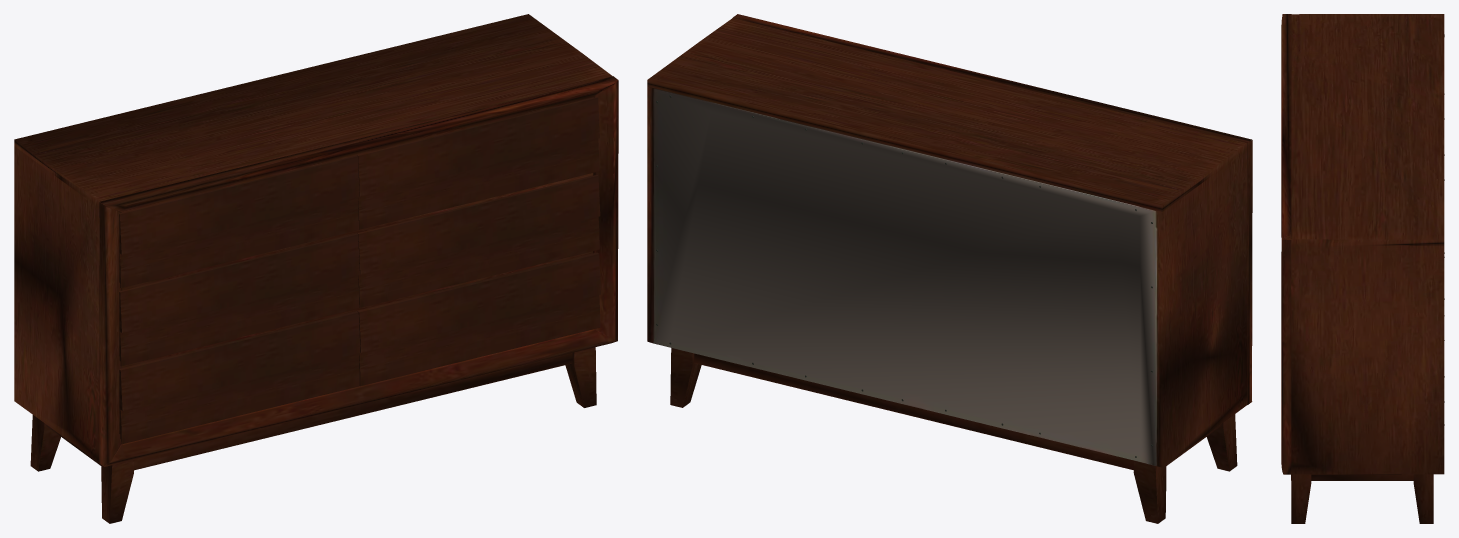
The model's file is abo-B0725Z23G4.glb.
3 views of the same model, side by side, from view 1: azimuth 30°, elevation 25°; view 2: azimuth 150°, elevation 25°; view 3: azimuth 270°, elevation 25° (orthographic). The views are drawn at different scales.
Parts seen in each view (by area): view 1: RootNode; view 2: RootNode; view 3: RootNode.
Part boxes in pixels (x1=…): RootNode: x1=14, y1=14, x2=618, y2=523; RootNode: x1=647, y1=14, x2=1252, y2=523; RootNode: x1=1281, y1=14, x2=1444, y2=523.
Size of the model in its own units: 1.61 by 0.9709 by 0.4925.
1 material, 1 textured.
